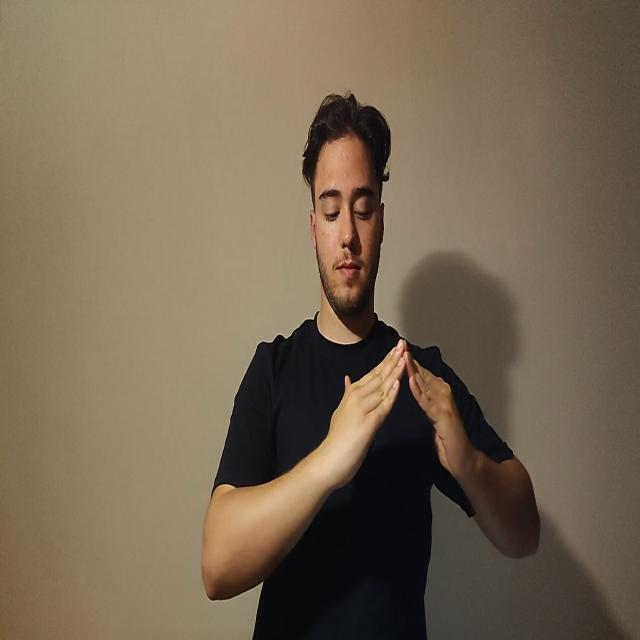house: (320, 338, 471, 499)
